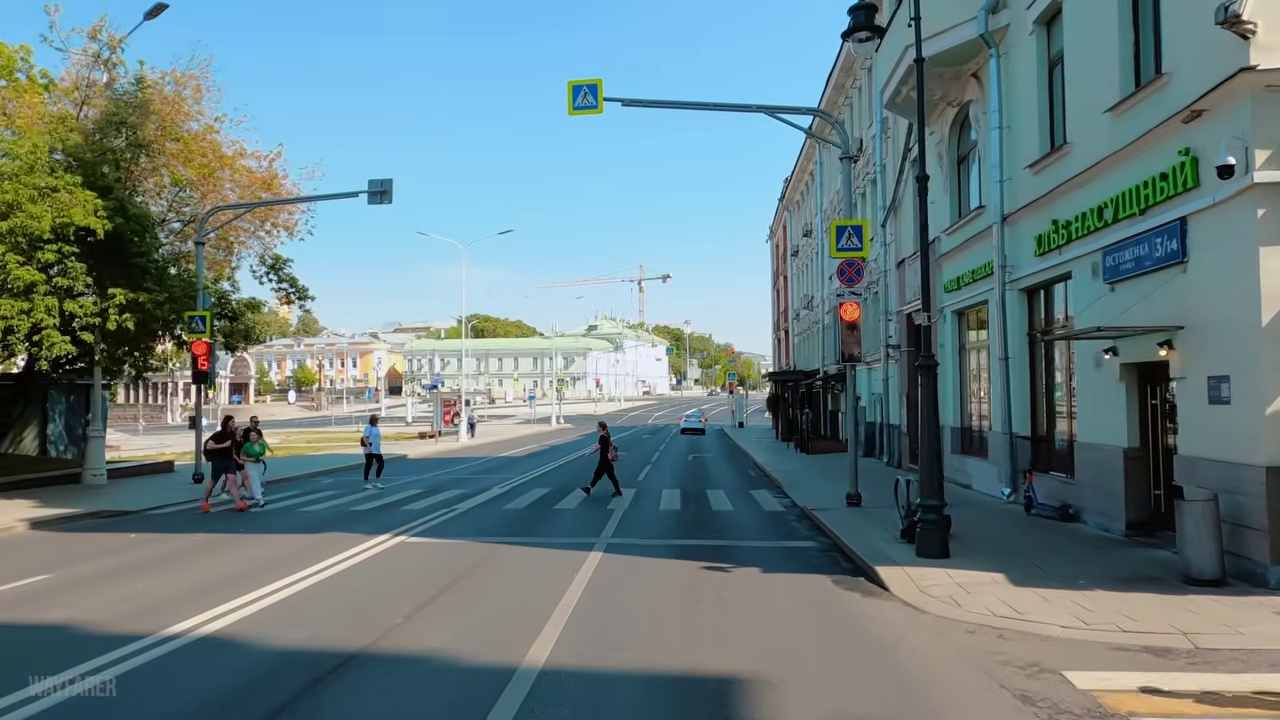apagada: (842, 9, 878, 57), (139, 3, 168, 27), (656, 268, 675, 286)
